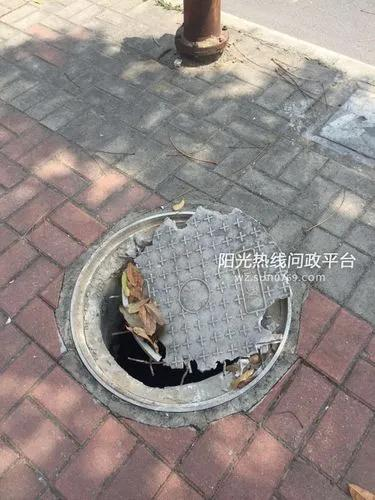wellcover: (69, 203, 298, 422)
